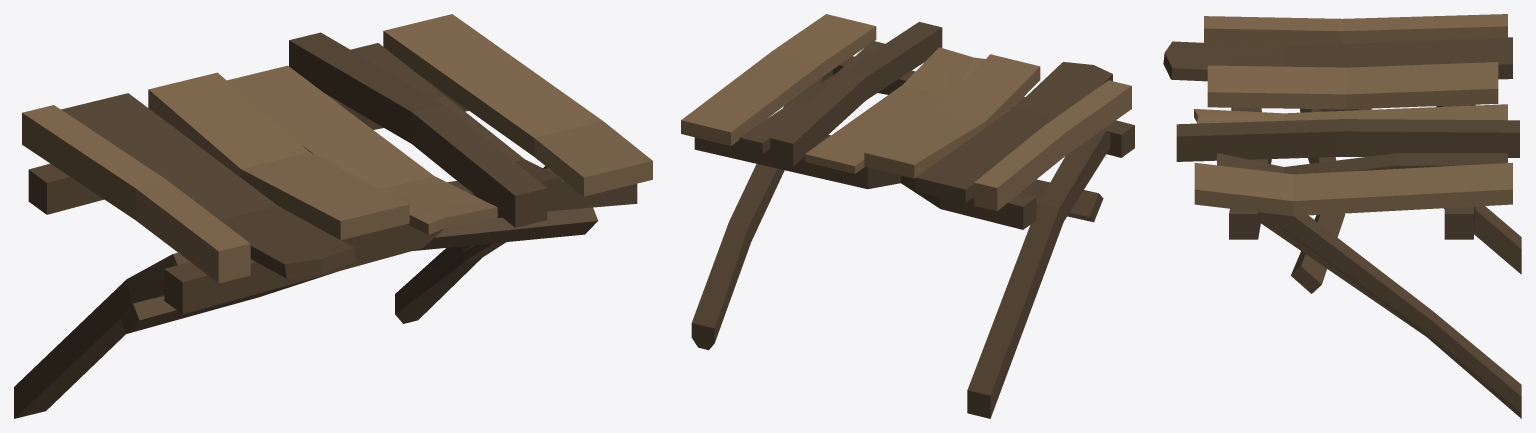
The model's file is SM_Prop_Window_Top_01.glb.
The picture shows the model from 3 angles, left to right: view 1: azimuth 30°, elevation 25°; view 2: azimuth 150°, elevation 25°; view 3: azimuth 270°, elevation 25°; orthographic projection. The views are drawn at different scales.
Parts seen in each view (by area): view 1: SM_Prop_Window_Top_01_part00; view 2: SM_Prop_Window_Top_01_part00; view 3: SM_Prop_Window_Top_01_part00.
Boxes of the visible parts, x1,y1,x2,y2 form: SM_Prop_Window_Top_01_part00: (14,14,652,418); SM_Prop_Window_Top_01_part00: (681,14,1134,418); SM_Prop_Window_Top_01_part00: (1163,14,1521,418).
Size of the model in its own units: 1.91 by 1.27 by 1.62.
Materials: 1 (1 with a texture image).
